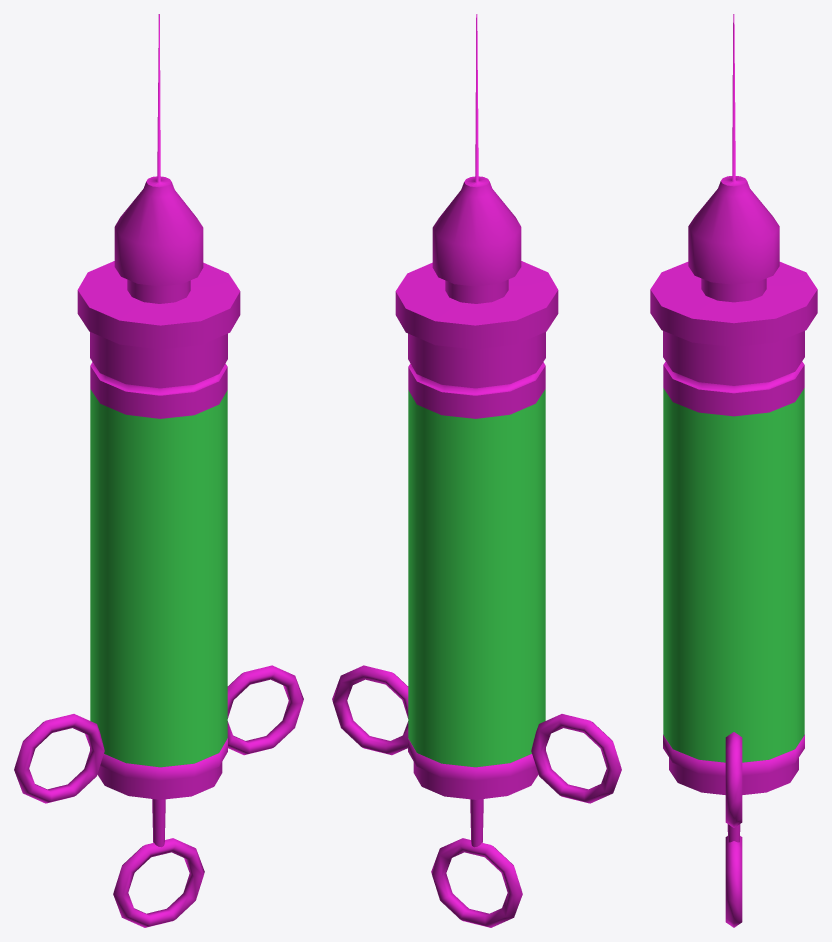
The model's file is needle.fbx.
3 renders of one model, left to right at view 1: azimuth 30°, elevation 25°; view 2: azimuth 150°, elevation 25°; view 3: azimuth 270°, elevation 25°, orthographic.
Visible parts, largest first — view 1: Torus.003; view 2: Torus.003; view 3: Torus.003.
Boxes of the visible parts, left/top/right/bottom form: Torus.003: left=14, top=14, right=303, bottom=927; Torus.003: left=332, top=14, right=621, bottom=927; Torus.003: left=650, top=14, right=817, bottom=927.
Size of the model in its own units: 0.1 by 0.3 by 0.0502.
